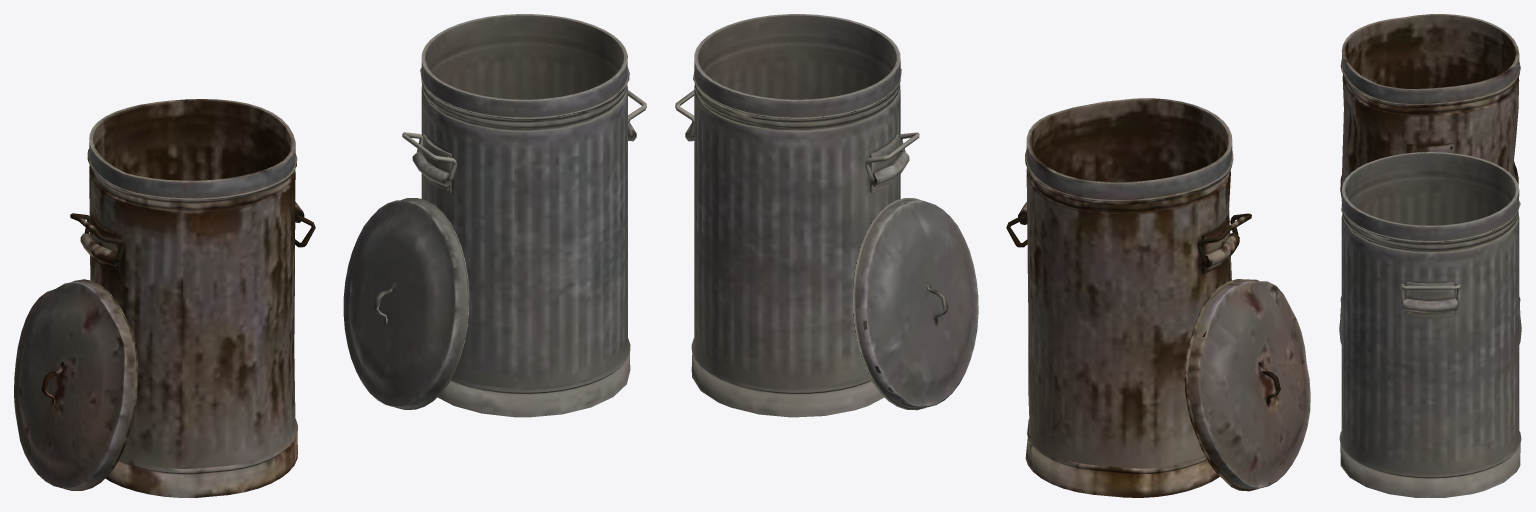
The model's file is metal_trash_can.90a175af.glb.
3 renders of one model, left to right at view 1: azimuth 30°, elevation 25°; view 2: azimuth 150°, elevation 25°; view 3: azimuth 270°, elevation 25°, orthographic. The views are drawn at different scales.
Visible parts, largest first — view 1: metal_trash_can, metal_trash_can_rust, metal_trash_can_lid, metal_trash_can_rust_lid; view 2: metal_trash_can, metal_trash_can_rust, metal_trash_can_lid, metal_trash_can_rust_lid; view 3: metal_trash_can, metal_trash_can_rust, metal_trash_can_handle_right.
Boxes of the visible parts, x1,y1,x2,y2 form: metal_trash_can: (412,14,636,417); metal_trash_can_rust: (80,99,304,497); metal_trash_can_lid: (343,198,469,409); metal_trash_can_rust_lid: (14,279,137,490); metal_trash_can: (685,14,909,417); metal_trash_can_rust: (1018,98,1239,497); metal_trash_can_lid: (852,198,978,410); metal_trash_can_rust_lid: (1184,279,1310,491); metal_trash_can: (1339,152,1521,497); metal_trash_can_rust: (1340,14,1520,317); metal_trash_can_handle_right: (1400,284,1460,304).
Bounding box in the file's own units: 1.78 × 0.9062 × 0.5543.
Materials: 2 (2 with a texture image).
